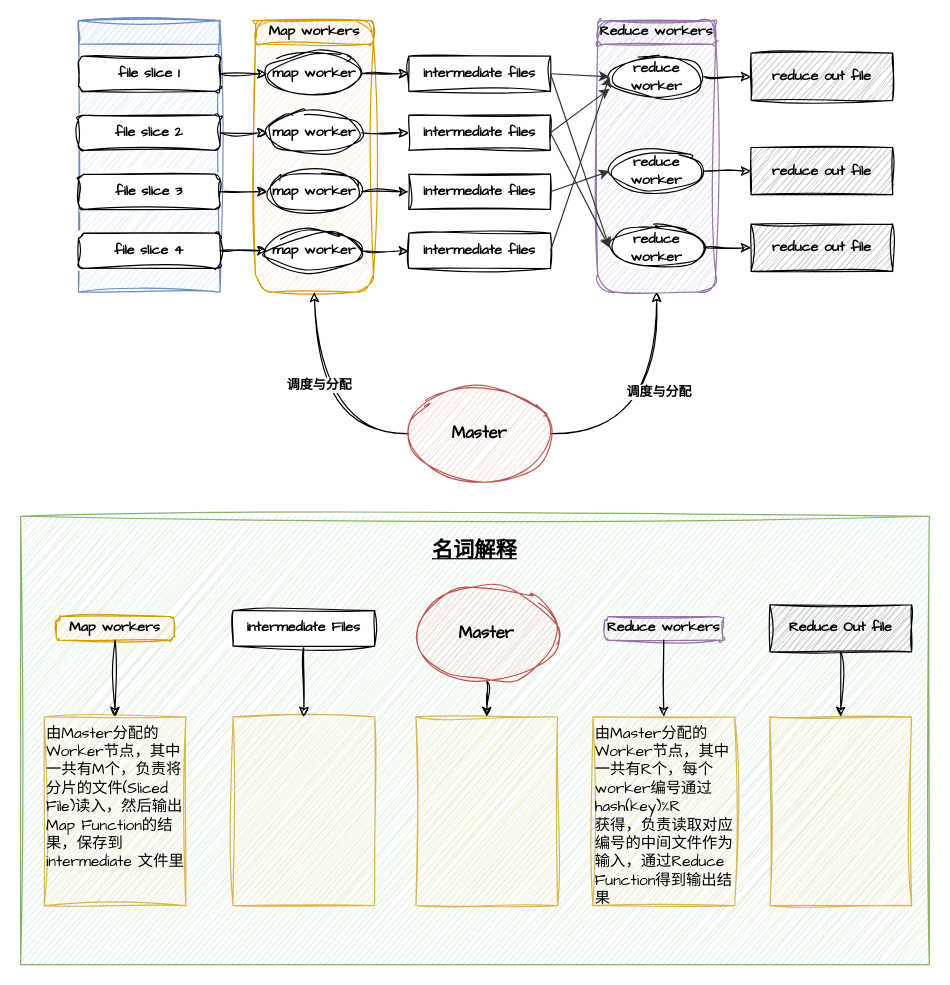
This 950x985 diagram has some shape labels left out. Each missing label, with the box of its shape:
File: (77, 19, 220, 44)
Master 节点，也叫主工作节点，负责管理和调度worker的状态，比如选择空闲的worker，它分配一个map任务或reduce任务。: (415, 716, 558, 906)
由Map Worker 产生的中间文件，注意这里会有多个文件，如果是在多台机器上分布式，则这里代表把问价能存储到了GFS(谷歌文件系统): (232, 716, 375, 906)
由Reduce worker节点输出的结果，保存到了文件里，按照Reduce Worker的编号进行命名，并不需要合并: (769, 716, 912, 906)
